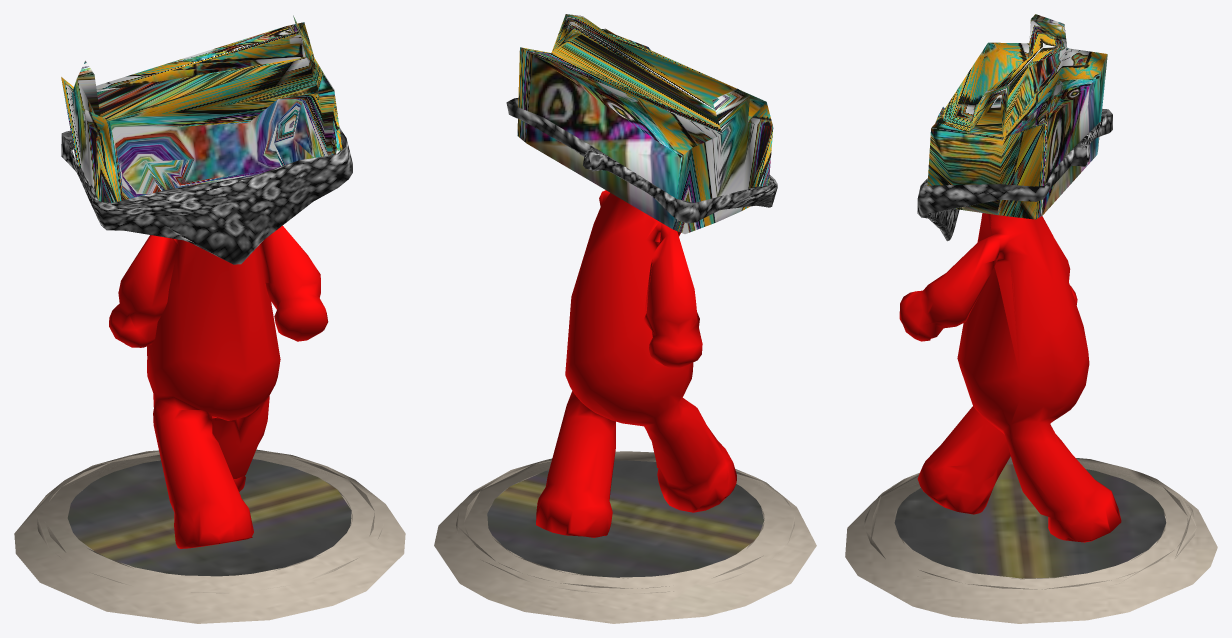
3 views of the same model, side by side, from view 1: azimuth 30°, elevation 25°; view 2: azimuth 150°, elevation 25°; view 3: azimuth 270°, elevation 25° (orthographic). The views are drawn at different scales.
Size of the model in its own units: 1.45 by 2.1 by 1.44.
Materials: 5 (4 with a texture image).
